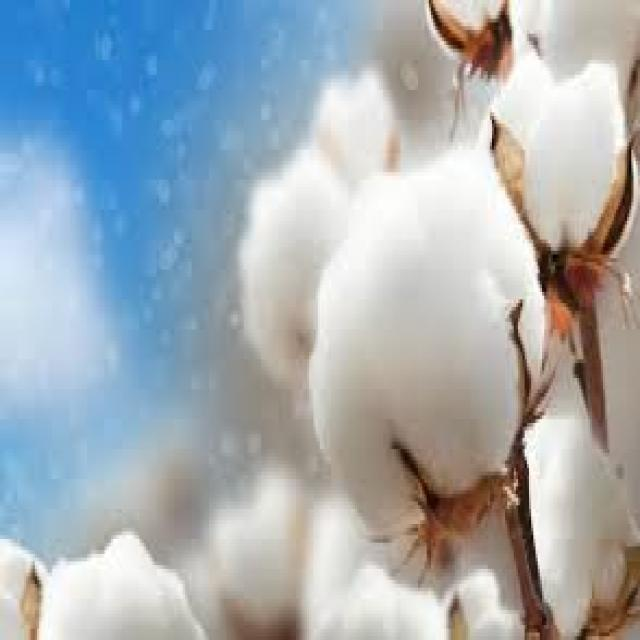Matured Cotton Boll: (314, 133, 556, 548), (238, 66, 413, 386), (489, 34, 639, 282), (489, 406, 632, 640), (30, 526, 206, 640)
